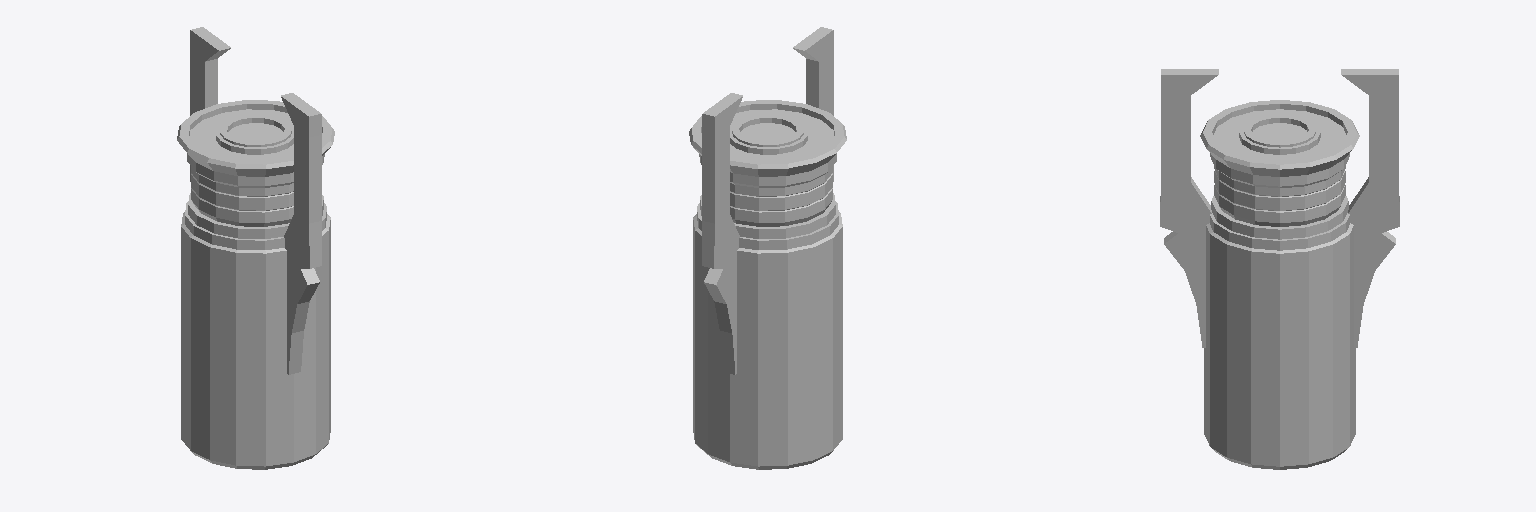
File: taron_emitter.obj
3 views of the same model, side by side, from view 1: azimuth 30°, elevation 25°; view 2: azimuth 150°, elevation 25°; view 3: azimuth 270°, elevation 25° (orthographic).
Parts seen in each view (by area): view 1: Circle.002; view 2: Circle.002; view 3: Circle.002.
Boxes of the visible parts, x1,y1,x2,y2 form: Circle.002: [177, 27, 334, 469]; Circle.002: [689, 27, 846, 469]; Circle.002: [1160, 69, 1399, 469].
Bounding box in the file's own units: 0.0994 × 0.2531 × 0.1499.